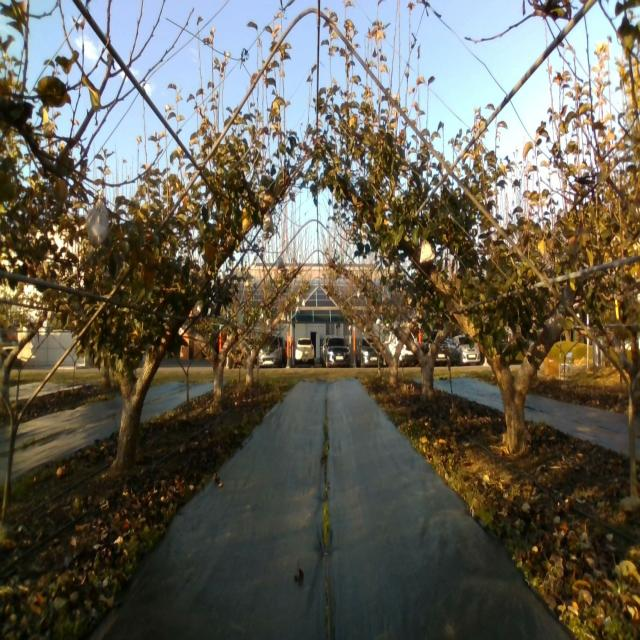pearbags: (86, 192, 110, 247), (419, 239, 435, 263), (263, 211, 275, 235)
